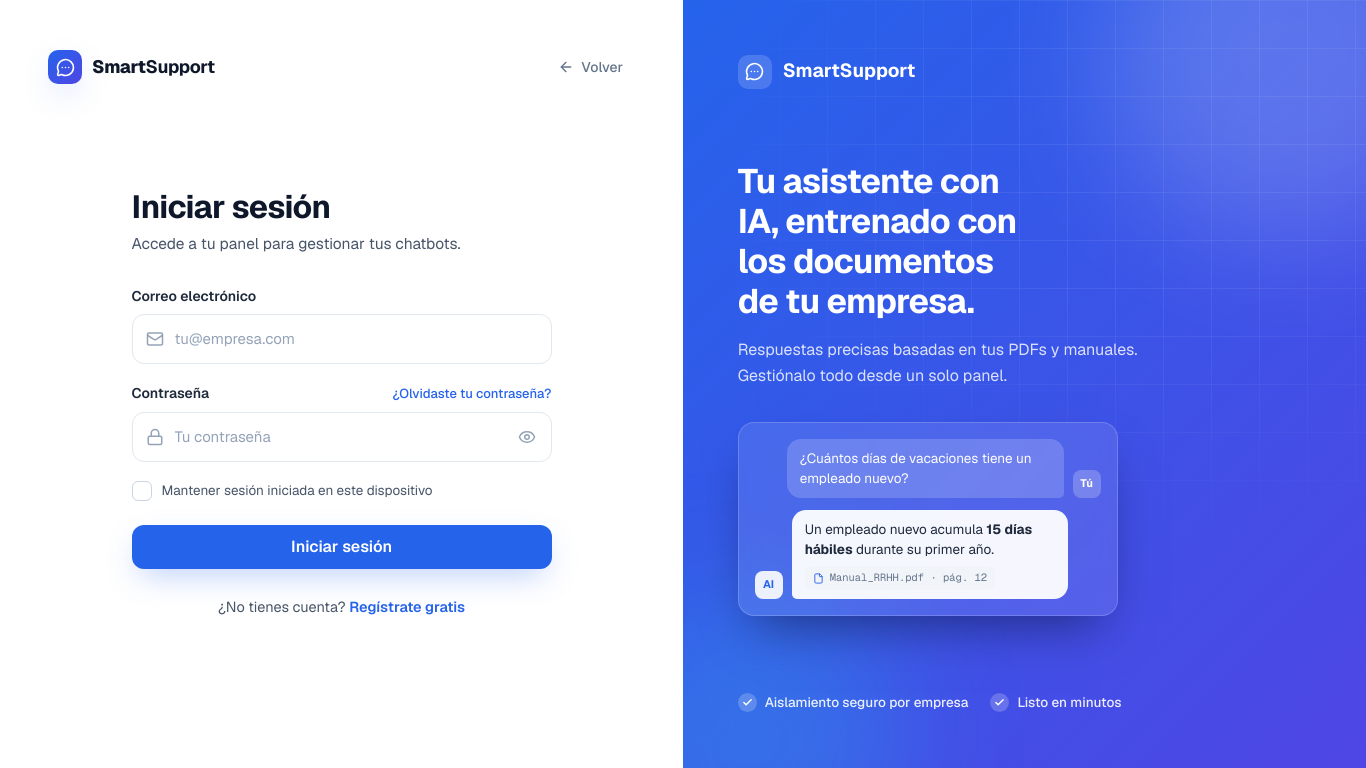
it: LoginPage › muestra error de credenciales incorrectas desde Supabase
This screenshot has width=1366, height=768.
Type "test@test.com" into the field labelled "Correo electrónico". click: (342, 339)
box: [132,314,552,364]
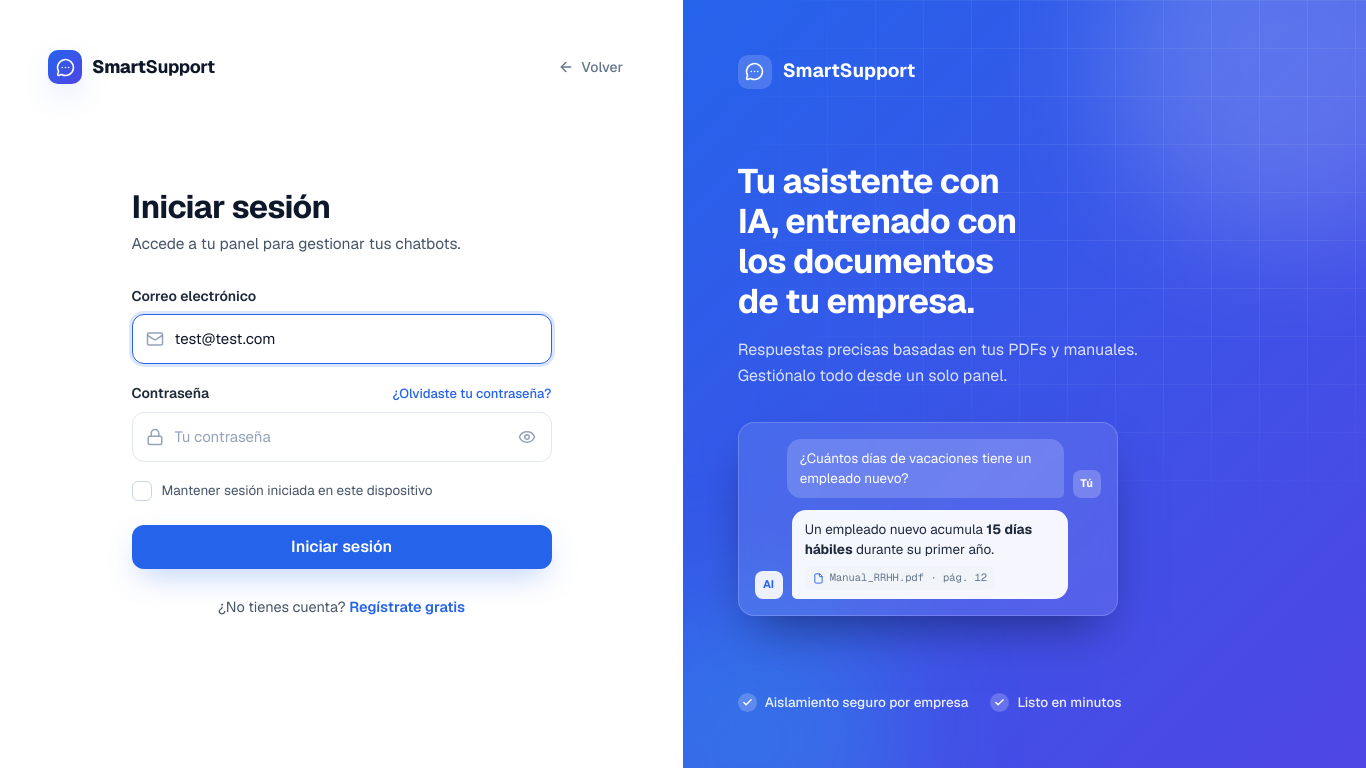
Type "wrongpassword" into the password field labelled "Contraseña". click: (342, 437)
box: [132,412,552,462]
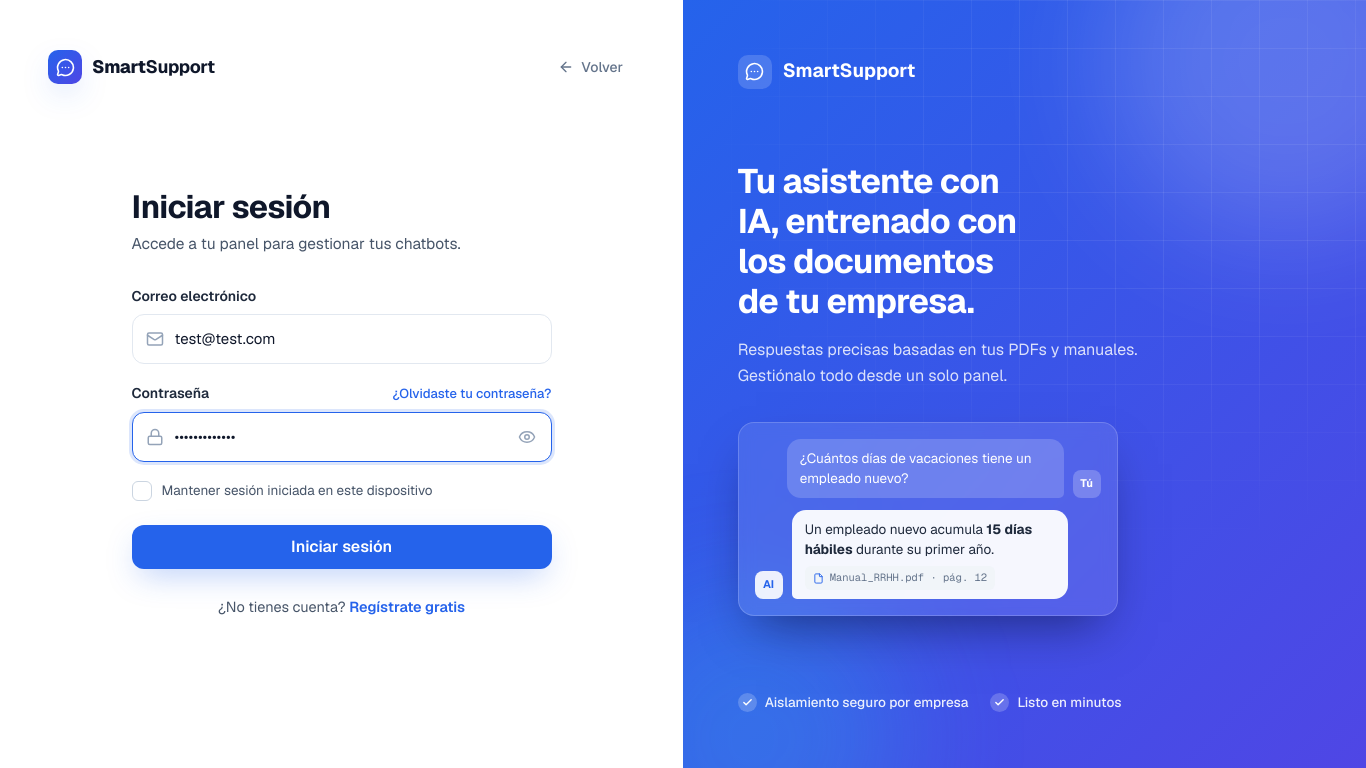
Click the button "Iniciar sesión". click: (342, 547)
box: [132,525,552,569]
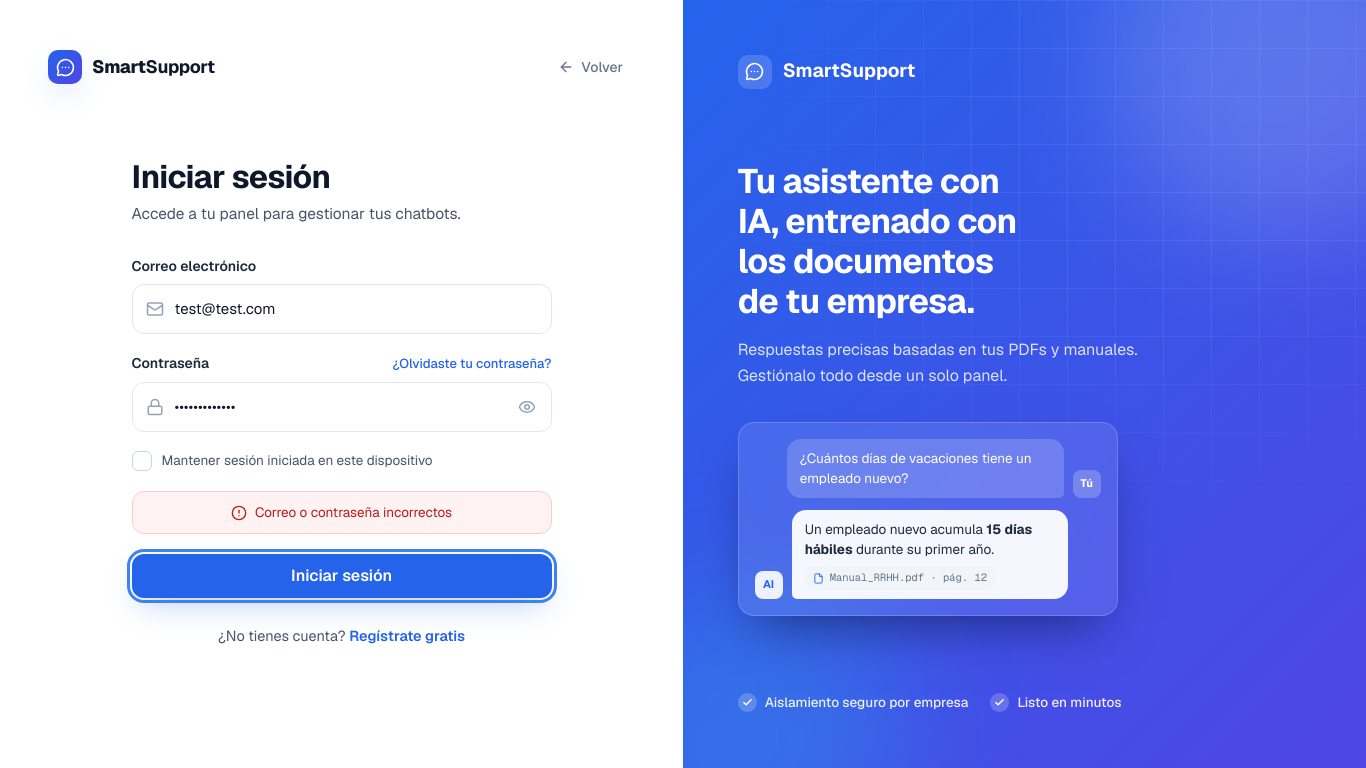
Result: the text "Correo o contraseña incorrectos" is shown at [132,491,552,534]
